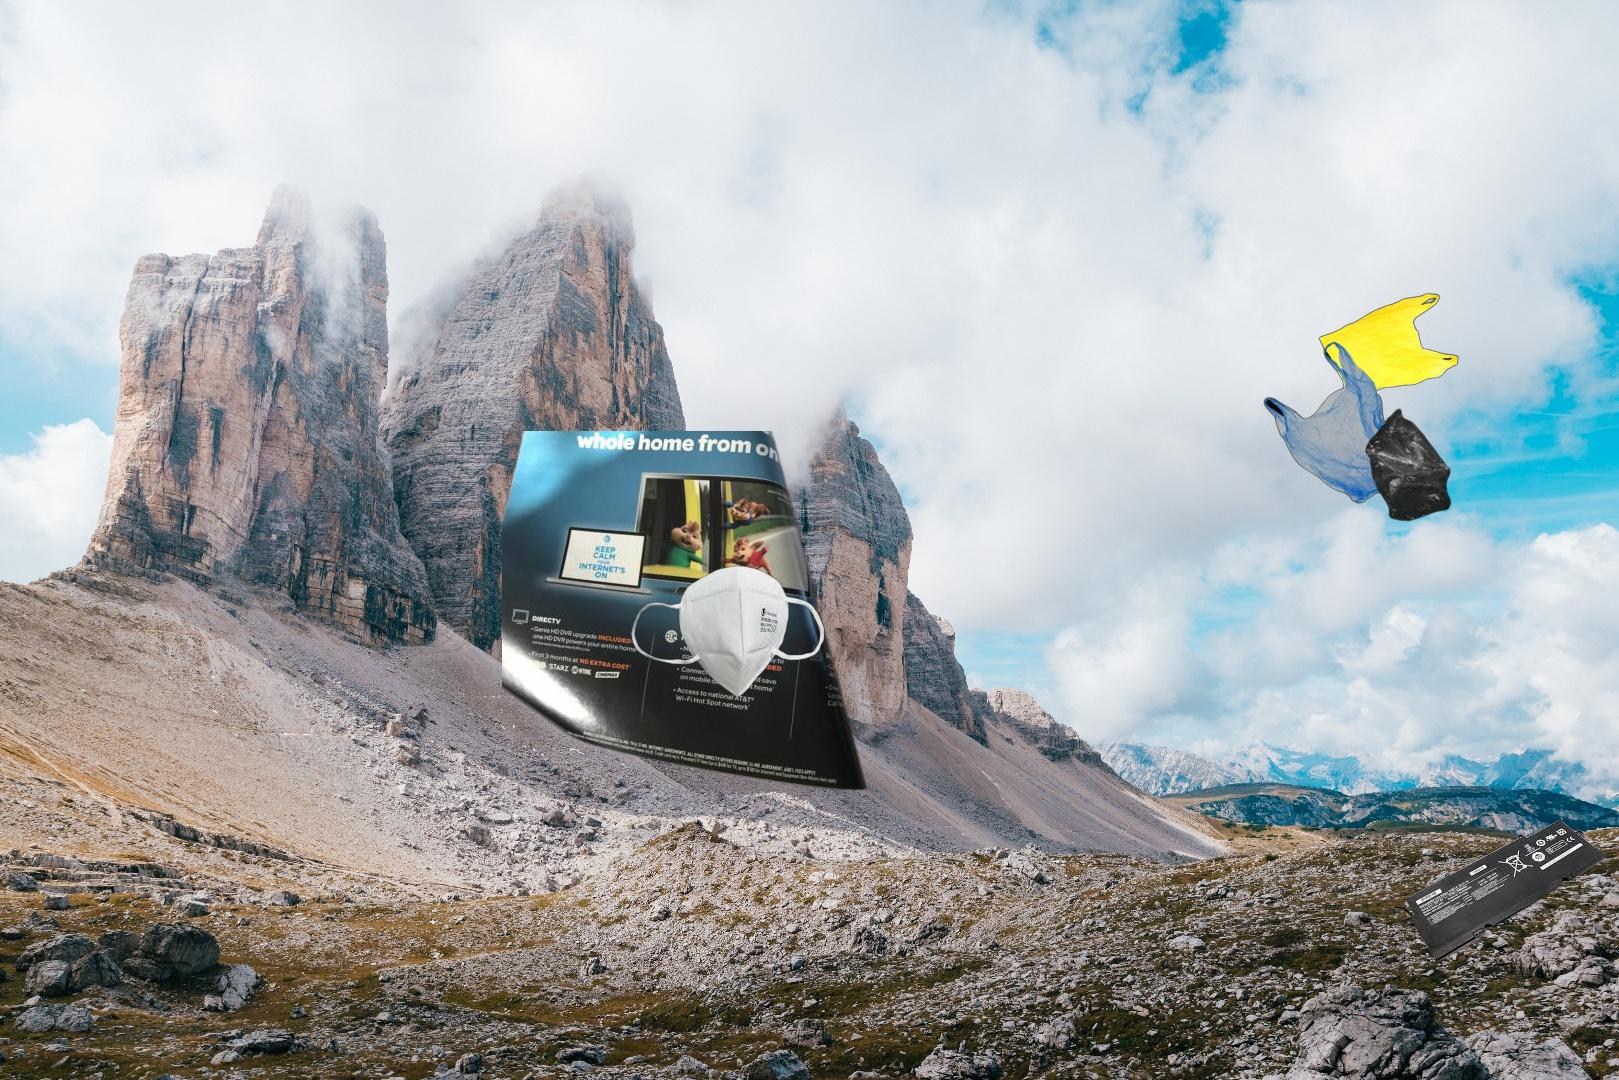battery: (1384, 817, 1609, 964)
paper: (501, 432, 872, 794)
plastic-bag: (1261, 290, 1461, 524)
trash: (628, 563, 827, 700)
